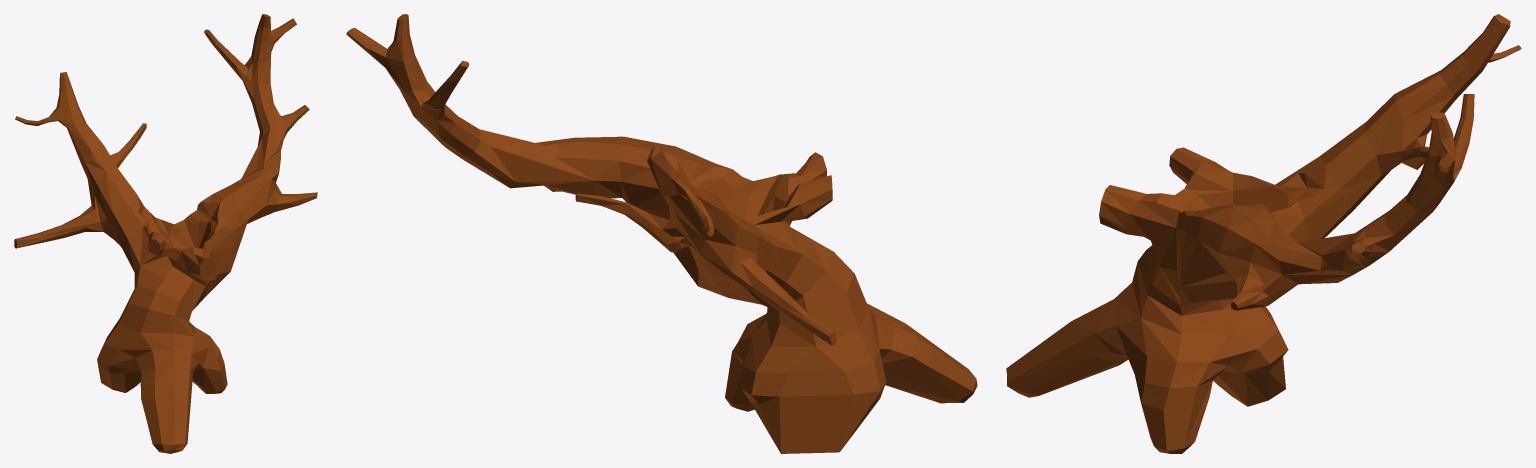
File: Vegetation_Tree_Trunk_Ancient_Gnarled_Medium_01.FBX
The picture shows the model from 3 angles, left to right: view 1: azimuth 30°, elevation 25°; view 2: azimuth 150°, elevation 25°; view 3: azimuth 270°, elevation 25°; orthographic projection. The views are drawn at different scales.
Visible parts, largest first — view 1: Vegetation_Tree_Trunk_Ancient_Gnarled_Medium_01; view 2: Vegetation_Tree_Trunk_Ancient_Gnarled_Medium_01; view 3: Vegetation_Tree_Trunk_Ancient_Gnarled_Medium_01.
Boxes of the visible parts, <box> form: Vegetation_Tree_Trunk_Ancient_Gnarled_Medium_01: <box>14,14,317,453</box>; Vegetation_Tree_Trunk_Ancient_Gnarled_Medium_01: <box>346,14,977,453</box>; Vegetation_Tree_Trunk_Ancient_Gnarled_Medium_01: <box>1006,14,1521,453</box>.
Bounding box in the file's own units: 4865 × 4494 × 4650.
